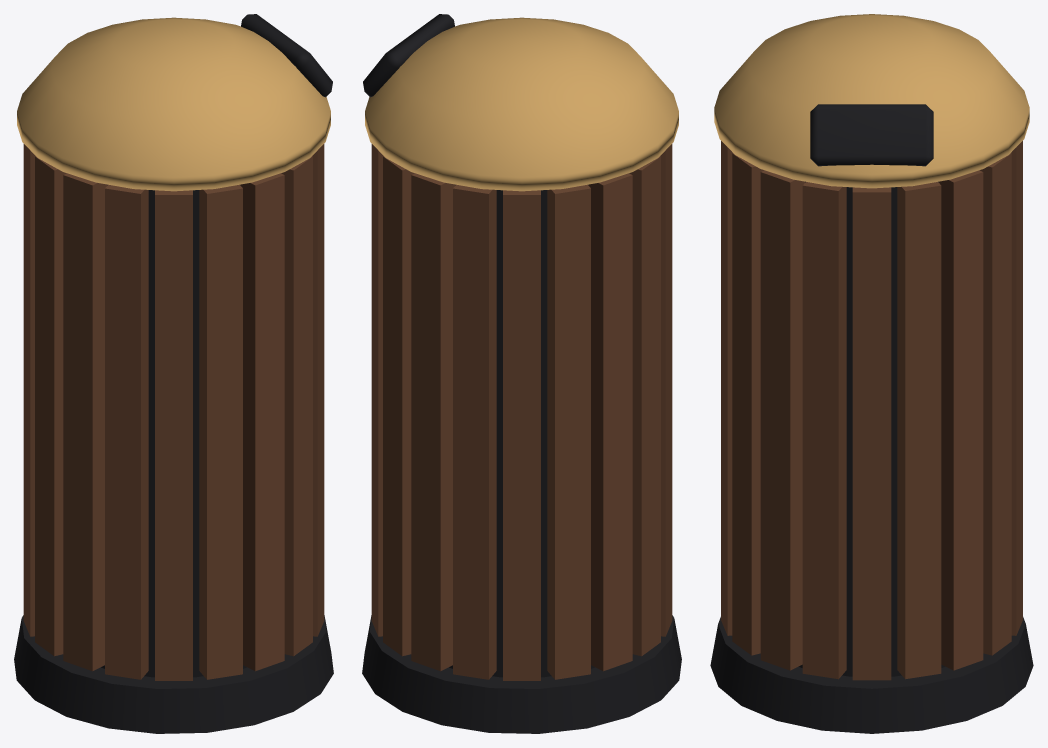
File: bin_brass.glb
3 renders of one model, left to right at view 1: azimuth 30°, elevation 25°; view 2: azimuth 150°, elevation 25°; view 3: azimuth 270°, elevation 25°, orthographic.
Visible parts, largest first — view 1: Mesh_Dome, Mesh_Slat5, Mesh_Slat7, Mesh_Slat4, Mesh_Slat8, Mesh_Slat6, Mesh_Base, Mesh_Slat3, Mesh_Slat9, Mesh_Core, Mesh_Slat2, Mesh_Slat10 (+1 smaller); view 2: Mesh_Dome, Mesh_Slat11, Mesh_Slat13, Mesh_Slat10, Mesh_Slat14, Mesh_Slat12, Mesh_Base, Mesh_Slat9, Mesh_Slat15, Mesh_Core, Mesh_Slat8, Mesh_Slat16 (+1 smaller); view 3: Mesh_Dome, Mesh_Slat1, Mesh_Slat17, Mesh_Slat2, Mesh_Slat16, Mesh_Slat0, Mesh_Base, Mesh_Slat3, Mesh_Slat15, Mesh_Flap, Mesh_Core, Mesh_Slat4 (+1 smaller).
Part boxes in pixels (x1,y1,x2,y2): Mesh_Dome: [17, 17, 330, 191]; Mesh_Slat5: [199, 184, 242, 679]; Mesh_Slat7: [105, 184, 148, 679]; Mesh_Slat4: [240, 173, 284, 671]; Mesh_Slat8: [63, 173, 107, 671]; Mesh_Slat6: [155, 190, 192, 680]; Mesh_Base: [14, 615, 333, 733]; Mesh_Slat3: [281, 156, 312, 656]; Mesh_Slat9: [35, 156, 66, 656]; Mesh_Core: [101, 184, 246, 677]; Mesh_Slat2: [312, 144, 324, 636]; Mesh_Slat10: [23, 144, 35, 636]; Mesh_Dome: [365, 17, 678, 191]; Mesh_Slat11: [547, 184, 590, 679]; Mesh_Slat13: [453, 184, 496, 679]; Mesh_Slat10: [588, 173, 632, 671]; Mesh_Slat14: [411, 173, 455, 671]; Mesh_Slat12: [503, 190, 540, 680]; Mesh_Base: [362, 615, 681, 733]; Mesh_Slat9: [629, 156, 660, 656]; Mesh_Slat15: [383, 156, 414, 656]; Mesh_Core: [449, 184, 594, 677]; Mesh_Slat8: [660, 144, 672, 636]; Mesh_Slat16: [371, 144, 383, 636]; Mesh_Dome: [714, 14, 1029, 188]; Mesh_Slat1: [802, 182, 846, 679]; Mesh_Slat17: [897, 182, 941, 679]; Mesh_Slat2: [760, 170, 804, 670]; Mesh_Slat16: [939, 170, 983, 670]; Mesh_Slat0: [852, 187, 891, 680]; Mesh_Base: [710, 617, 1033, 733]; Mesh_Slat3: [732, 153, 763, 655]; Mesh_Slat15: [980, 153, 1011, 655]; Mesh_Flap: [810, 104, 933, 166]; Mesh_Core: [798, 181, 945, 676]; Mesh_Slat4: [721, 141, 732, 635].
Size of the model in its own units: 0.42 by 0.9 by 0.42.
